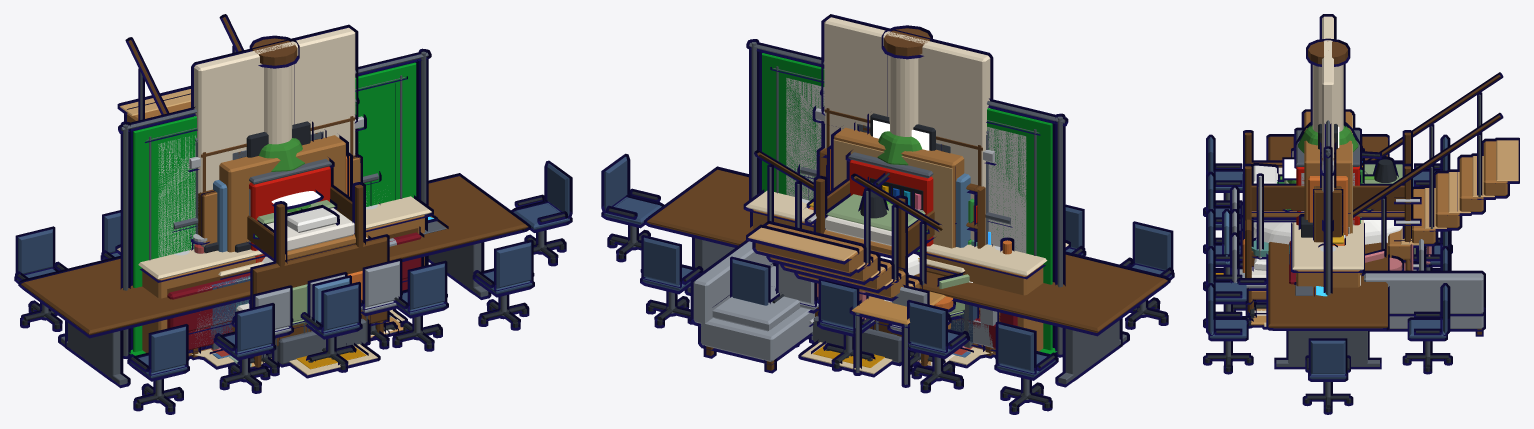
The model's file is jagoai_furniture_kit.glb.
3 renders of one model, left to right at view 1: azimuth 30°, elevation 25°; view 2: azimuth 150°, elevation 25°; view 3: azimuth 270°, elevation 25°, orthographic. The views are drawn at different scales.
Parts seen in each view (by area): view 1: FURN_meja_rapat, FURN_backdrop, FURN_panel_dinding, FURN_meja_resepsionis, FURN_ranjang_tingkat, FURN_ranjang_double, FURN_meja_rapat_kecil, FURN_backdrop_putih, FURN_lemari_pakaian, FURN_pilar, FURN_vending, FURN_tangga_lurus (+12 smaller); view 2: FURN_meja_rapat, FURN_backdrop, FURN_panel_dinding, FURN_tangga_lurus, FURN_sofa_sudut, FURN_backdrop_putih, FURN_meja_resepsionis, FURN_ranjang_tingkat, FURN_lemari_pakaian, FURN_pilar, FURN_vending, FURN_meja_L (+10 smaller); view 3: FURN_meja_rapat, FURN_tangga_lurus, FURN_ranjang_tingkat, FURN_sofa_sudut, FURN_meja_resepsionis, FURN_pilar, FURN_meja_rapat_kecil, FURN_lemari_pakaian, FURN_backdrop, FURN_panel_dinding, FURN_kapsul_tidur, FURN_rak_buku_lebar (+9 smaller).
Part boxes in pixels (<box>): FURN_meja_rapat: <box>14,160,572,414</box>; FURN_backdrop: <box>118,48,431,358</box>; FURN_panel_dinding: <box>191,24,358,218</box>; FURN_meja_resepsionis: <box>115,195,433,359</box>; FURN_ranjang_tingkat: <box>246,182,365,366</box>; FURN_ranjang_double: <box>232,234,389,368</box>; FURN_meja_rapat_kecil: <box>211,258,402,376</box>; FURN_backdrop_putih: <box>145,75,407,260</box>; FURN_lemari_pakaian: <box>219,135,348,252</box>; FURN_pilar: <box>249,35,299,144</box>; FURN_vending: <box>249,157,334,262</box>; FURN_tangga_lurus: <box>117,14,243,122</box>; FURN_meja_rapat: <box>601,153,1174,414</box>; FURN_backdrop: <box>746,39,1068,357</box>; FURN_panel_dinding: <box>821,14,993,244</box>; FURN_tangga_lurus: <box>746,150,942,301</box>; FURN_sofa_sudut: <box>690,240,997,373</box>; FURN_backdrop_putih: <box>770,66,1040,255</box>; FURN_meja_resepsionis: <box>743,189,1070,357</box>; FURN_ranjang_tingkat: <box>804,175,935,364</box>; FURN_lemari_pakaian: <box>831,127,964,248</box>; FURN_pilar: <box>881,25,932,136</box>; FURN_vending: <box>845,150,933,269</box>; FURN_meja_L: <box>849,291,945,387</box>; FURN_meja_rapat: <box>1203,134,1452,414</box>; FURN_tangga_lurus: <box>1353,72,1519,262</box>; FURN_ranjang_tingkat: <box>1243,130,1421,269</box>; FURN_sofa_sudut: <box>1361,270,1485,336</box>; FURN_meja_resepsionis: <box>1291,148,1364,287</box>; FURN_pilar: <box>1306,38,1350,132</box>; FURN_meja_rapat_kecil: <box>1230,185,1426,318</box>; FURN_lemari_pakaian: <box>1301,109,1355,233</box>; FURN_backdrop: <box>1323,120,1332,295</box>; FURN_panel_dinding: <box>1319,14,1336,191</box>; FURN_kapsul_tidur: <box>1253,220,1402,302</box>; FURN_rak_buku_lebar: <box>1313,186,1343,242</box>.
Size of the model in its own units: 6.54 by 3.85 by 3.97.
